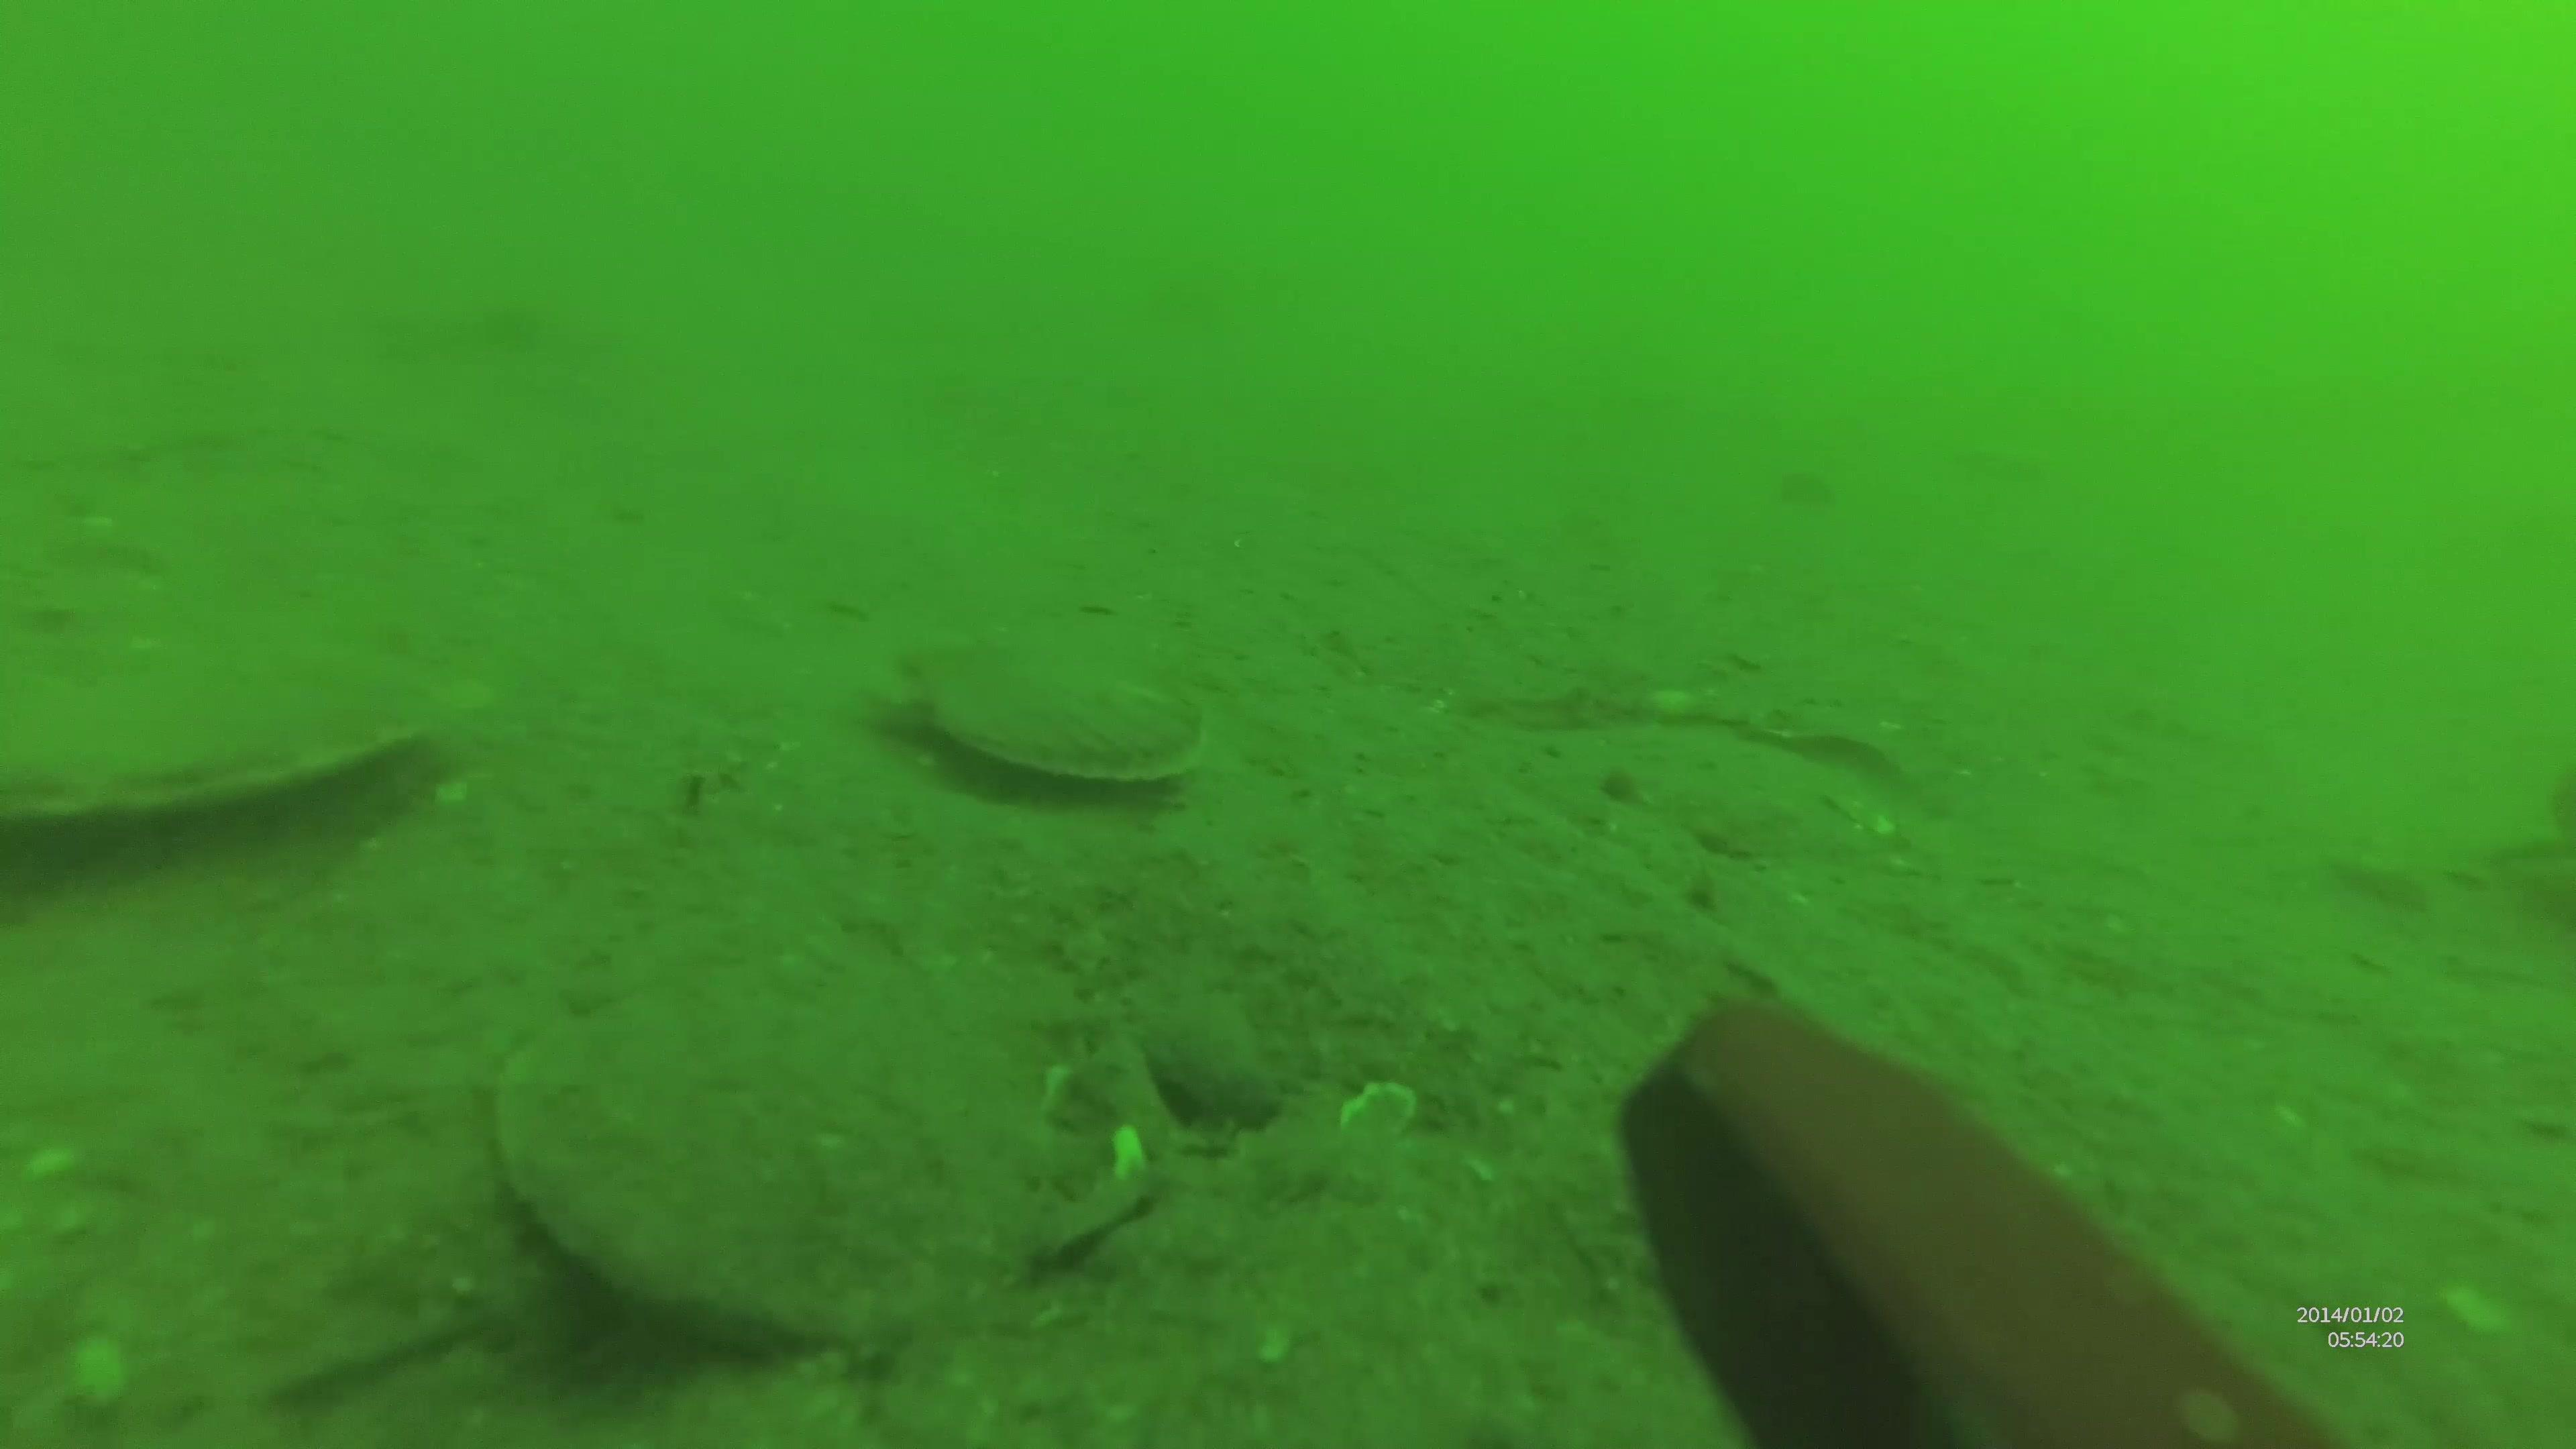scallop: (487, 993, 1070, 1355), (4, 632, 494, 828), (893, 621, 1221, 793)
